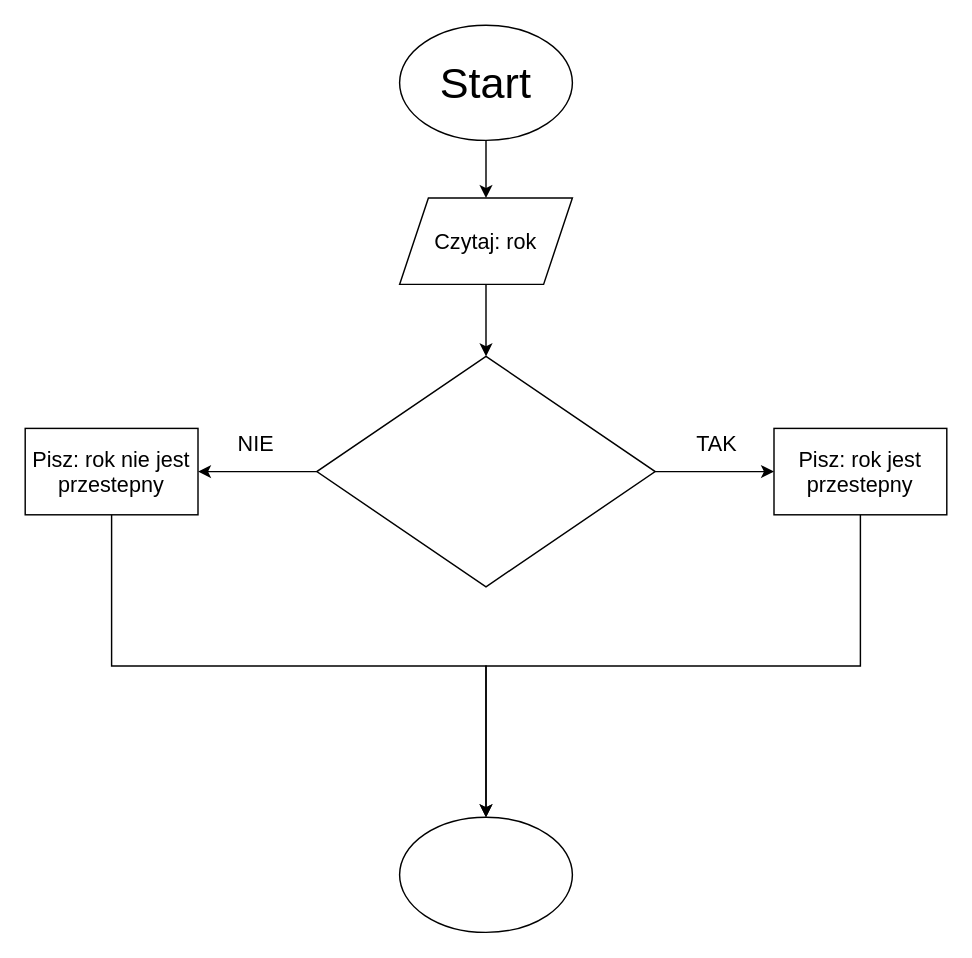
This 972x958 diagram has some shape labels left out. The centre of each missing label's shape, as x and y in pixels:
rok % 4 == 0 && rok % 100 != 0 || rok % 400 == 0: (x=485, y=471)
Stop: (x=485, y=874)
